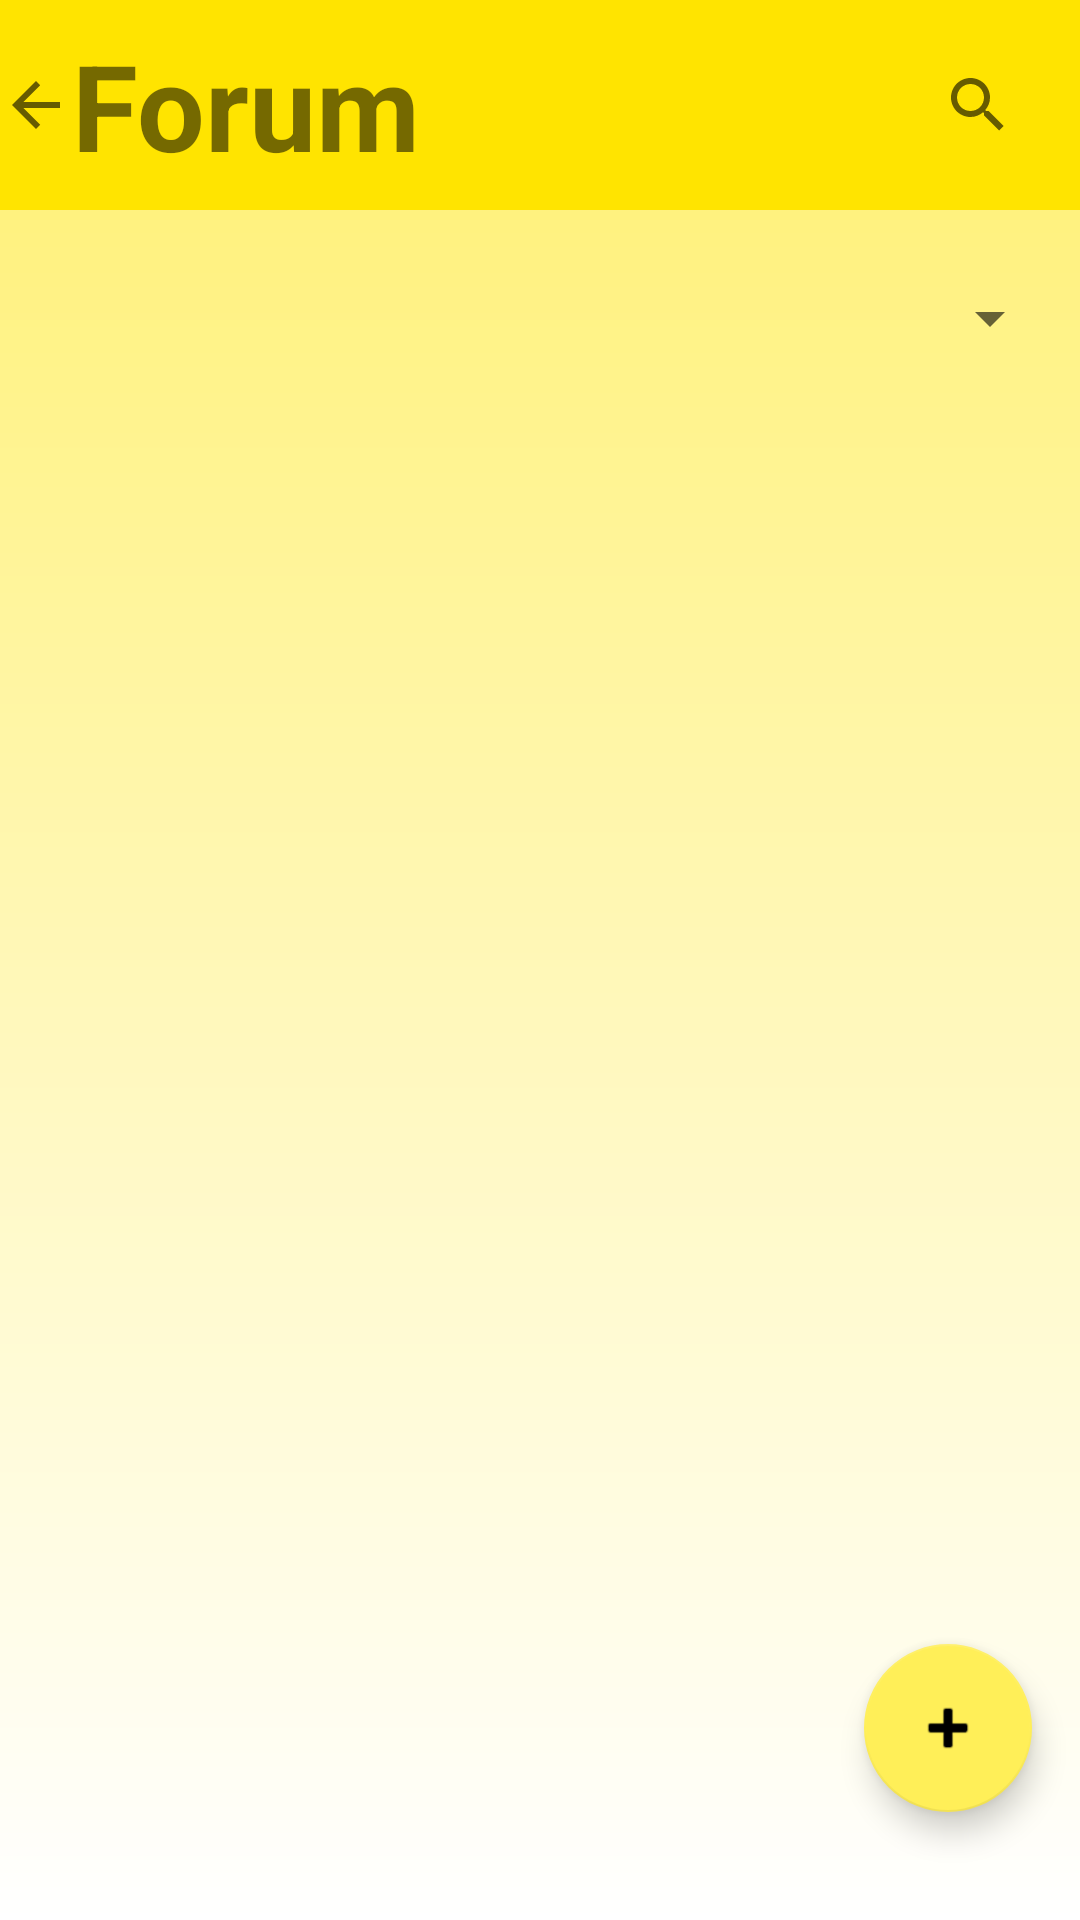

Locate icon controls on the screen. Image size 1080×1920, boxes as {"left": x1, "top": y1, "right": x2, "bottom": y2}.
add: {"left": 864, "top": 1644, "right": 1032, "bottom": 1812}
